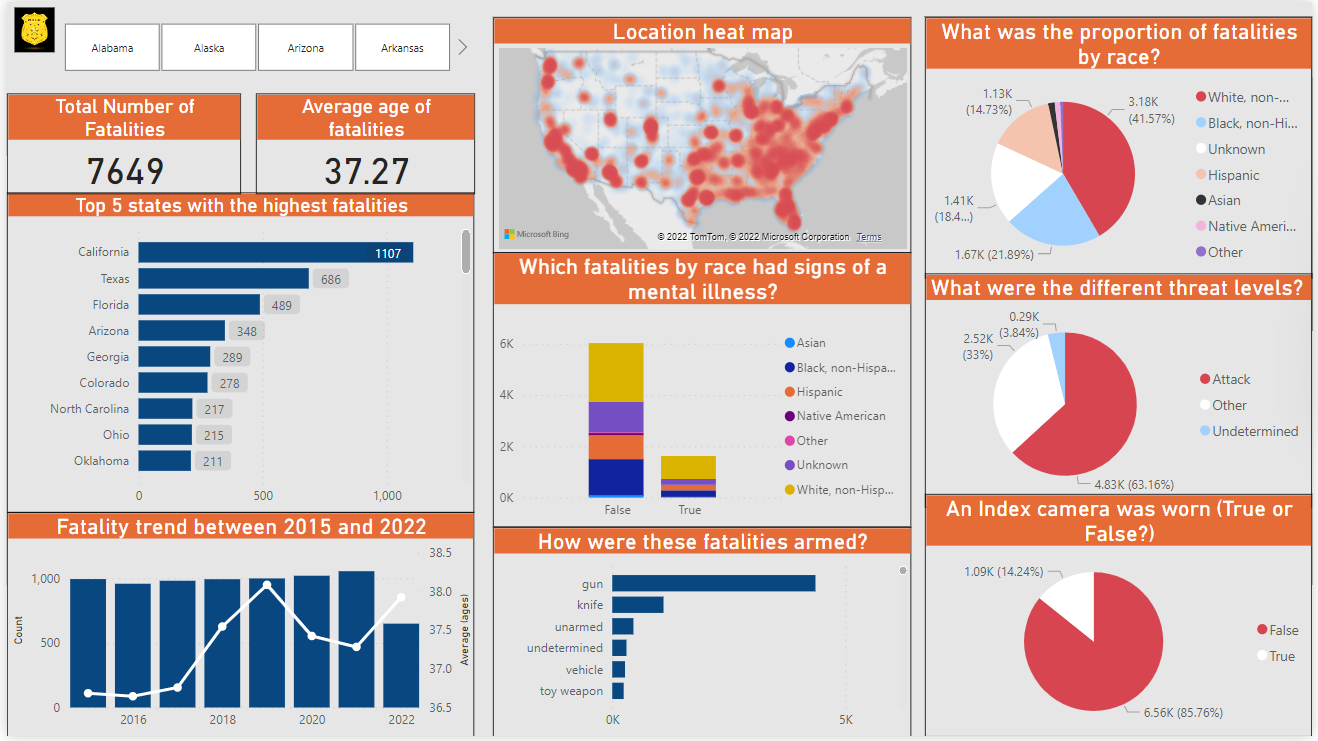

The dashboard page shown, as its layout file describes it:
{"tool":"powerbi","page":{"name":"Fatalies Dashboard","canvas":[1280,720],"ordinal":4},"visuals":[{"type":"map","title":"Location heat map","fields":{"Size":["CountNonNull(fatal-police-shootings-data-v2.Index)"],"X":["fatal-police-shootings-data-v2.longitude"],"Y":["fatal-police-shootings-data-v2.latitude"]},"box":[476.9,14,410.1,231.5],"z":0},{"type":"pieChart","title":"What was the proportion of fatalities by race?","fields":{"Category":["fatal-police-shootings-data-v2.race"],"Y":["CountNonNull(fatal-police-shootings-data-v2.Index)"]},"box":[900,14.7,379.4,255.9],"z":2000},{"type":"clusteredBarChart","title":"Top 5 states with the highest fatalities","fields":{"Y":["CountNonNull(fatal-police-shootings-data-v2.Index)"],"Category":["fatal-police-shootings-data-v2.state"]},"box":[0,186.4,458.3,313.8],"z":3000},{"type":"lineClusteredColumnComboChart","title":"Fatality trend between 2015 and 2022","fields":{"Y":["CountNonNull(fatal-police-shootings-data-v2.Index)"],"Category":["fatal-police-shootings-data-v2.Date.Variation.Date Hierarchy.Year"],"Y2":["Avg(fatal-police-shootings-data-v2.age)"]},"box":[0,500.2,458.3,220.6],"z":4000},{"type":"card","title":"Average age of fatalities","fields":{"Values":["Avg(fatal-police-shootings-data-v2.age)"]},"box":[244.1,89.7,214.7,98.5],"z":5000},{"type":"slicer","fields":{"Values":["fatal-police-shootings-data-v2.state"]},"box":[31.1,0,427.2,74.6],"z":6000},{"type":"card","title":"Total Number of Fatalities","fields":{"Values":["CountNonNull(fatal-police-shootings-data-v2.Index)"]},"box":[0,89.7,229.4,98.5],"z":7000},{"type":"image","box":[0,0,54.4,54.4],"z":9000},{"type":"pieChart","title":"What were the different threat levels?","fields":{"Category":["fatal-police-shootings-data-v2.threat_level"],"Y":["CountNonNull(fatal-police-shootings-data-v2.Index)"]},"box":[900,266.2,379.4,229.4],"z":9001},{"type":"barChart","title":"How were these fatalities armed?","fields":{"Category":["fatal-police-shootings-data-v2.armed"],"Y":["CountNonNull(fatal-police-shootings-data-v2.Index)"]},"box":[476.5,514.7,410.3,205.9],"z":9002},{"type":"columnChart","title":"Which fatalities by race had signs of a mental illness?","fields":{"Category":["fatal-police-shootings-data-v2.signs_of_mental_illness"],"Y":["CountNonNull(fatal-police-shootings-data-v2.Index)"],"Series":["fatal-police-shootings-data-v2.race"]},"box":[476.5,245.6,410.3,269.1],"z":9003},{"type":"pieChart","title":"An Index camera was worn (True or False?)","fields":{"Category":["fatal-police-shootings-data-v2.body_camera"],"Y":["CountNonNull(fatal-police-shootings-data-v2.Index)"]},"box":[900,482.4,379.4,238.2],"z":9004}]}

Visuals, with their boxes in screenshot pixels (x1, y1, x2, y2), scaled from the page's 1280x720 canvas onto the 1318x741 screenshot:
"Location heat map" map: crop(491, 14, 913, 253)
"What was the proportion of fatalities by race?" pieChart: crop(927, 15, 1317, 278)
"Top 5 states with the highest fatalities" clusteredBarChart: crop(0, 192, 472, 515)
"Fatality trend between 2015 and 2022" lineClusteredColumnComboChart: crop(0, 515, 472, 740)
"Average age of fatalities" card: crop(251, 92, 472, 194)
slicer - fatal-police-shootings-data-v2.state: crop(32, 0, 472, 77)
"Total Number of Fatalities" card: crop(0, 92, 236, 194)
image: crop(0, 0, 56, 56)
"What were the different threat levels?" pieChart: crop(927, 274, 1317, 510)
"How were these fatalities armed?" barChart: crop(491, 530, 913, 740)
"Which fatalities by race had signs of a mental illness?" columnChart: crop(491, 253, 913, 530)
"An Index camera was worn (True or False?)" pieChart: crop(927, 496, 1317, 740)
